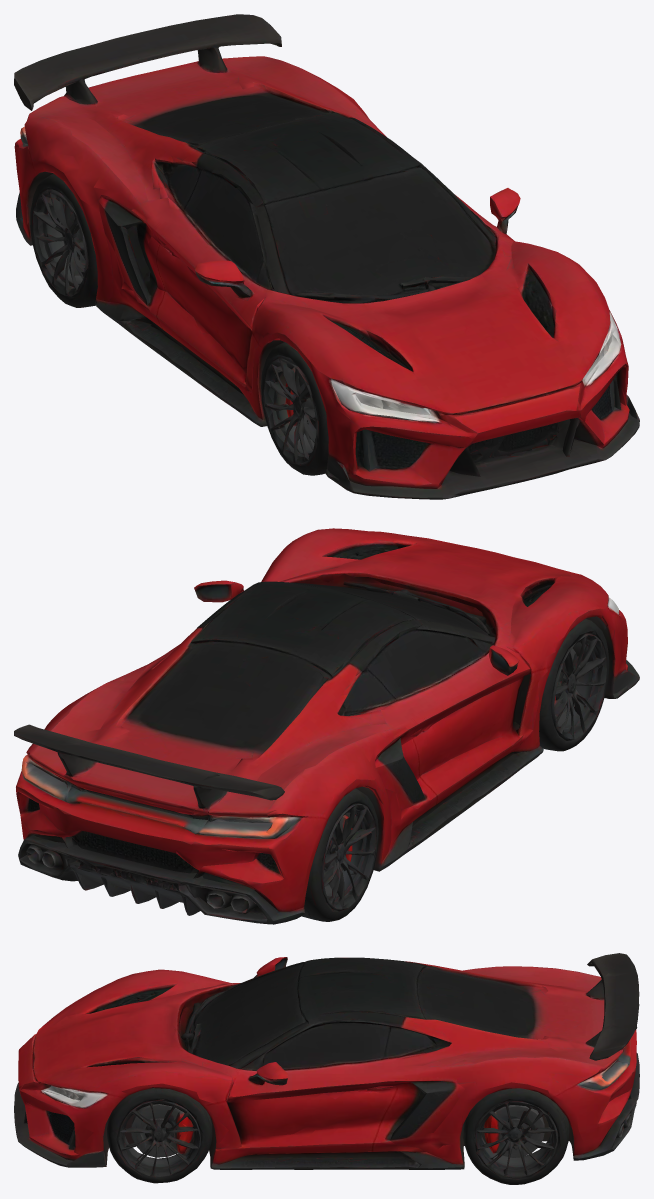
File: reference-supercar-v180.glb
The picture shows the model from 3 angles, top to bottom: view 1: azimuth 30°, elevation 25°; view 2: azimuth 150°, elevation 25°; view 3: azimuth 270°, elevation 25°; orthographic projection. The views are drawn at different scales.
Visible parts, largest first — view 1: Mesh; view 2: Mesh; view 3: Mesh.
Boxes of the visible parts, x1=… form: Mesh: x1=14, y1=14, x2=639, y2=499; Mesh: x1=14, y1=528, x2=639, y2=924; Mesh: x1=14, y1=953, x2=639, y2=1184.
Size of the model in its own units: 2.22 by 1.31 by 4.85.
Materials: 1 (1 with a texture image).
